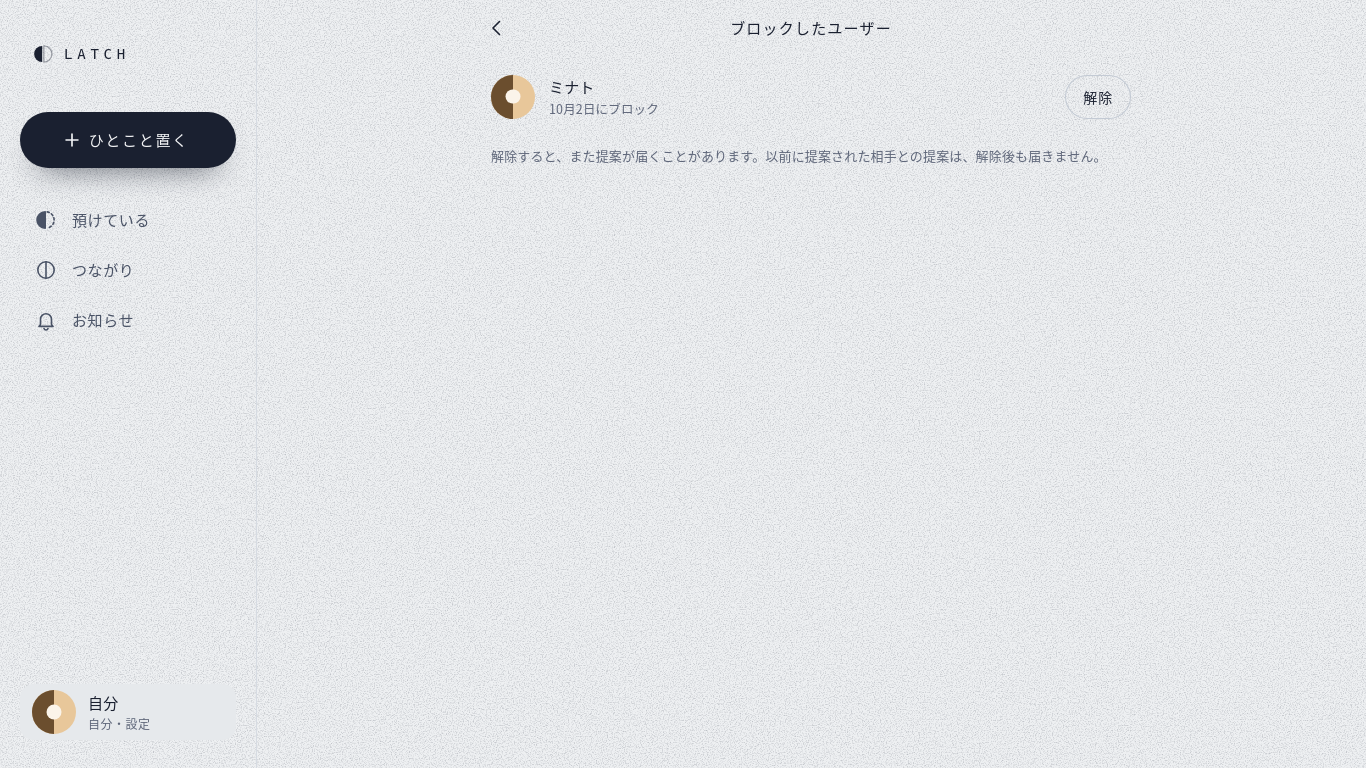
Test: Blocked › [解除]でDELETEし・一覧を取り直す
Expected: the text "ミナト" is shown, 549,76 -> 594,97
What coordinates should you click on to do the following:
click the button "解除"
I would click on:
 (1098, 96)
Its box is 1065,74 -> 1131,118.
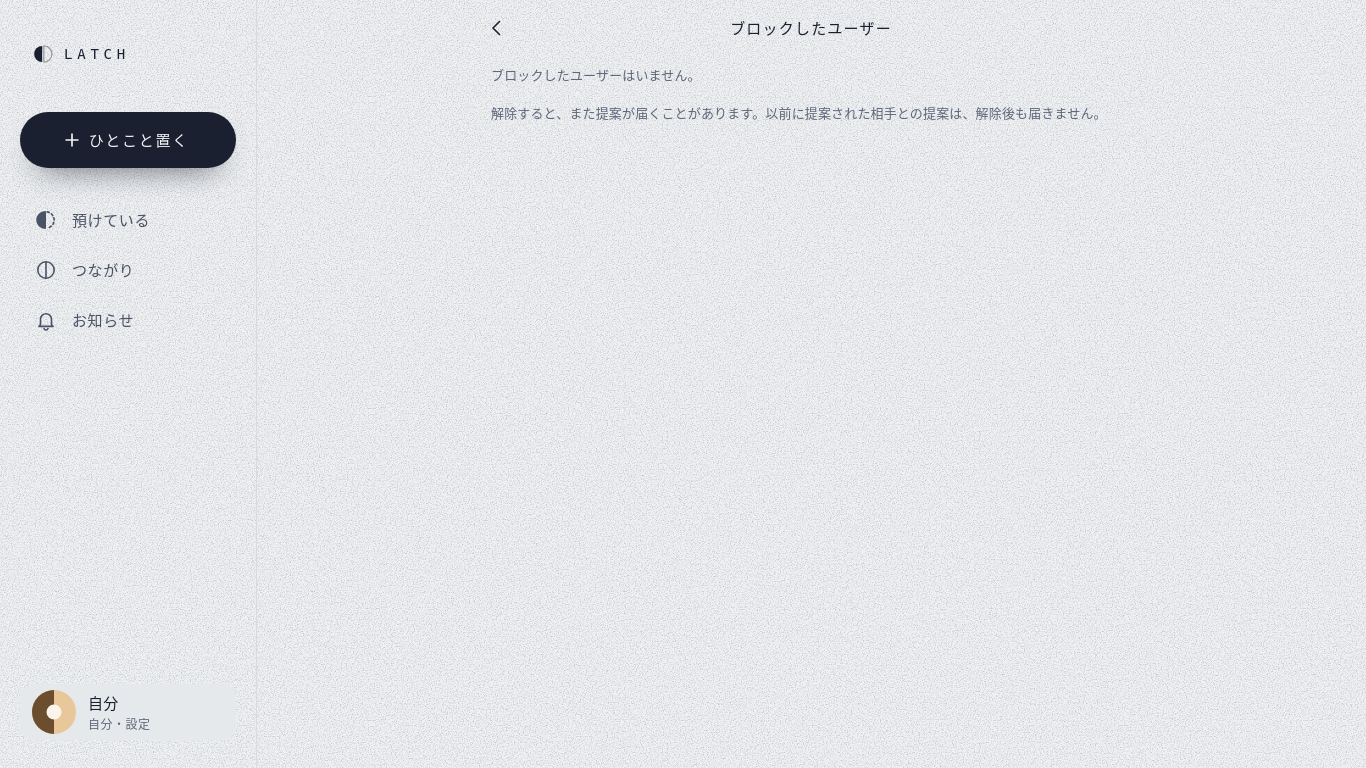
Expected: the text "ブロックしたユーザーはいません。" is shown, 491,65 -> 701,84
